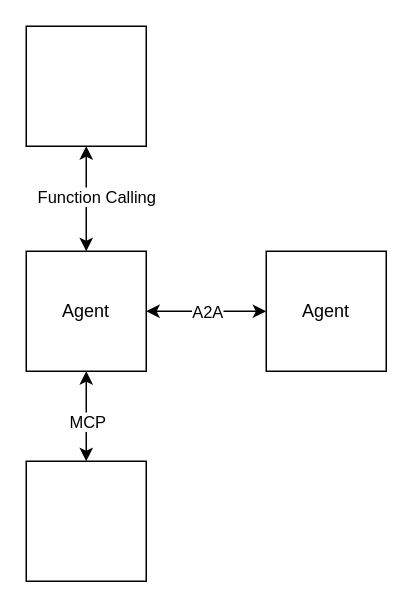
Image size: 413x608. Some labels were removed from this diagram. Here are the shapes that lost their labels. From the top down, the centre of each, then its label:
At (85,85): "LLM".
At (85,520): "Tools".
